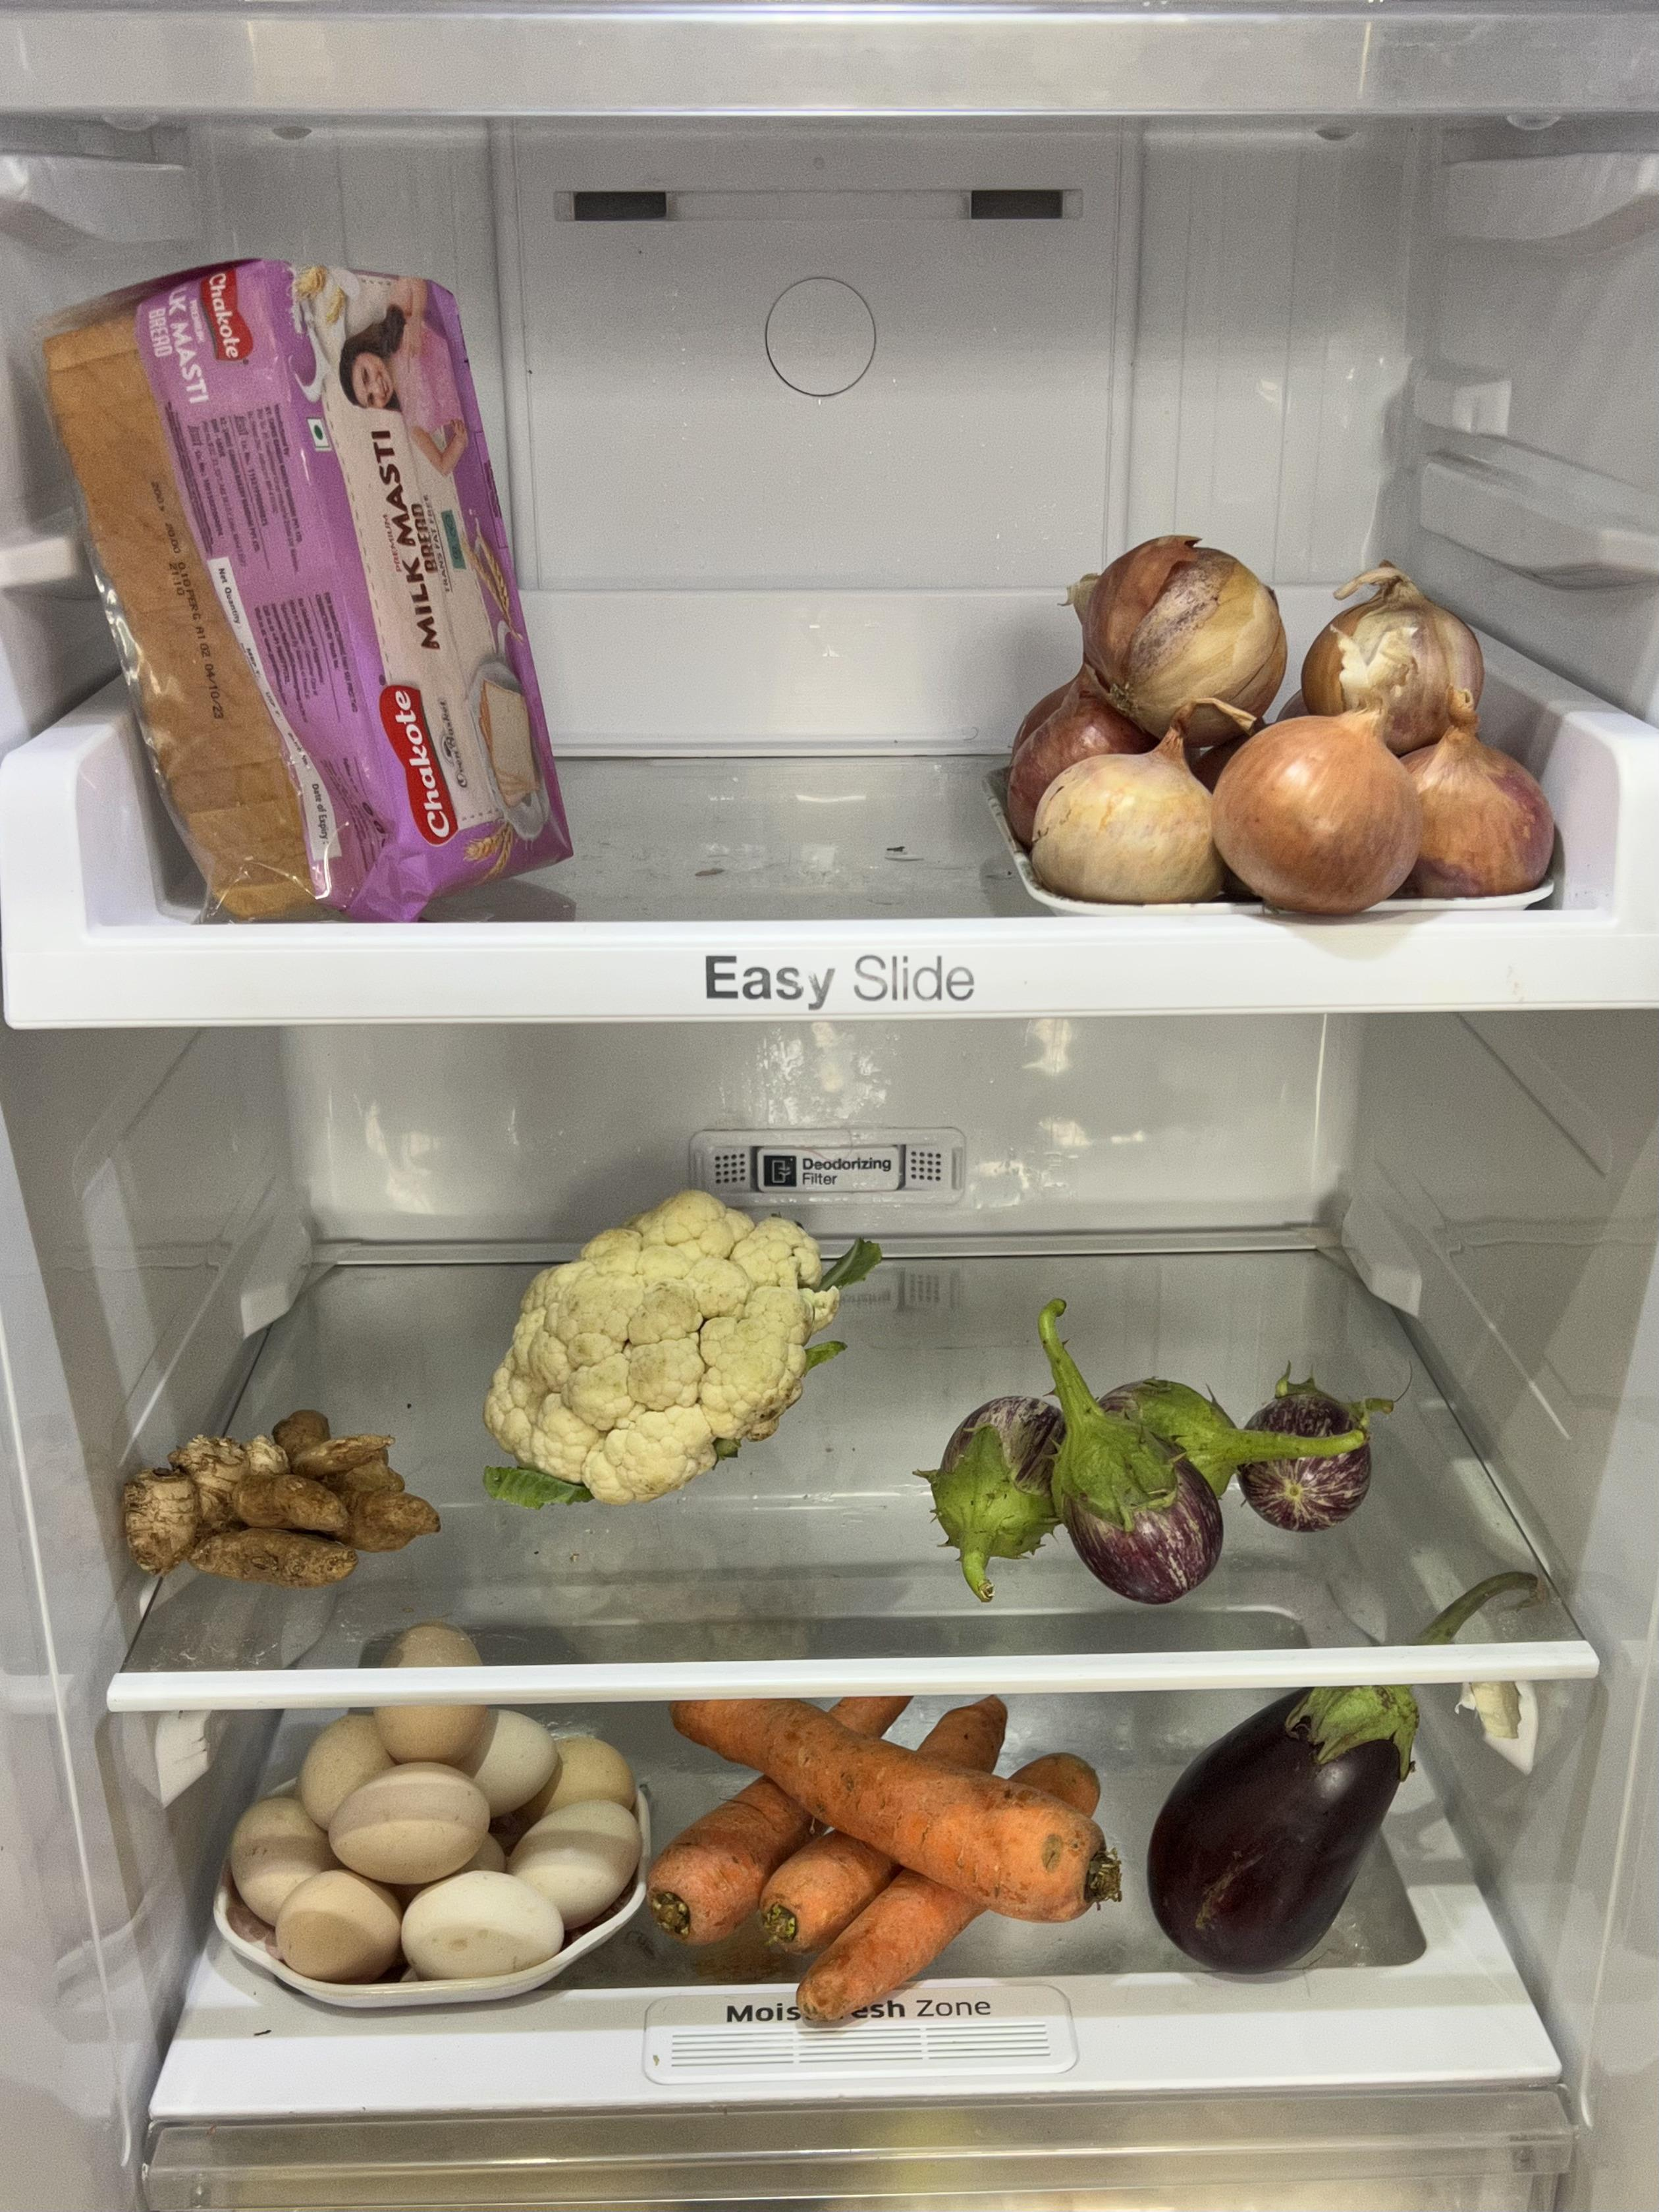bread: (37, 246, 579, 885)
bringal: (918, 1346, 1396, 1623), (1138, 1683, 1443, 1987)
carrots: (669, 1696, 1141, 2015)
cauliflower: (481, 1167, 863, 1493)
egg: (211, 1693, 648, 1994)
ginger: (98, 1402, 437, 1601)
onion: (985, 521, 1563, 914)
